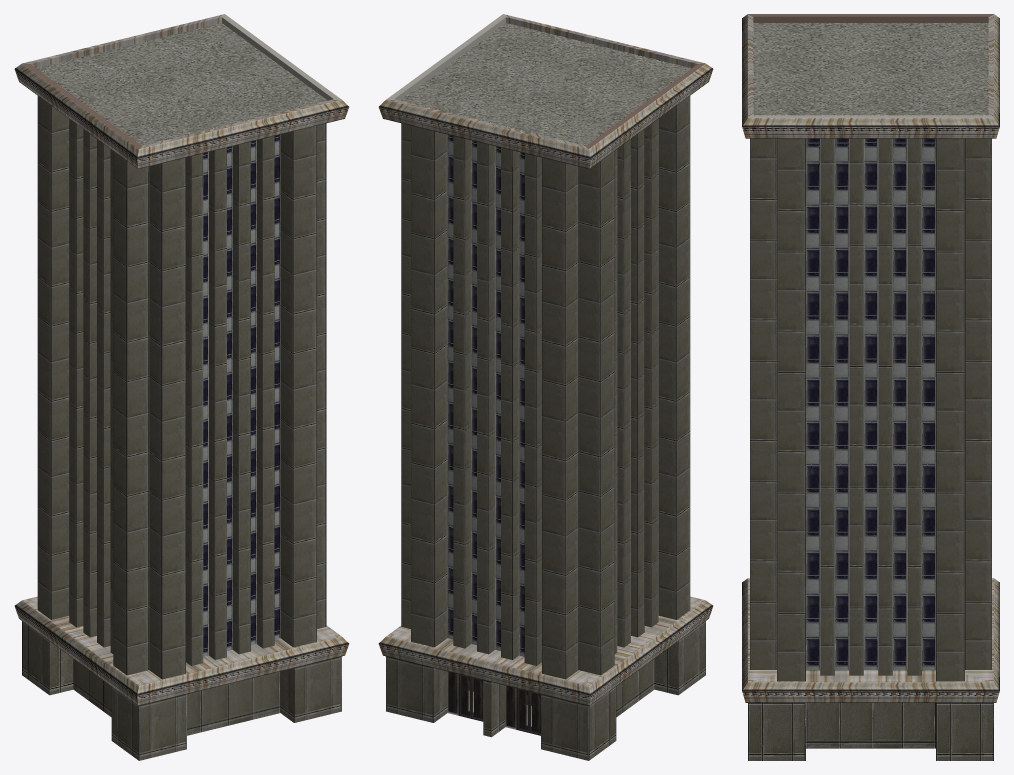
Rendered from Building_12.fbx.
3 renders of one model, left to right at view 1: azimuth 30°, elevation 25°; view 2: azimuth 150°, elevation 25°; view 3: azimuth 270°, elevation 25°, orthographic. The views are drawn at different scales.
Visible parts, largest first — view 1: Building_12; view 2: Building_12; view 3: Building_12.
Boxes of the visible parts, <box> form: Building_12: <box>14,14,349,760</box>; Building_12: <box>378,14,713,760</box>; Building_12: <box>742,14,999,760</box>.
Bounding box in the file's own units: 1056 × 2906 × 1056.
